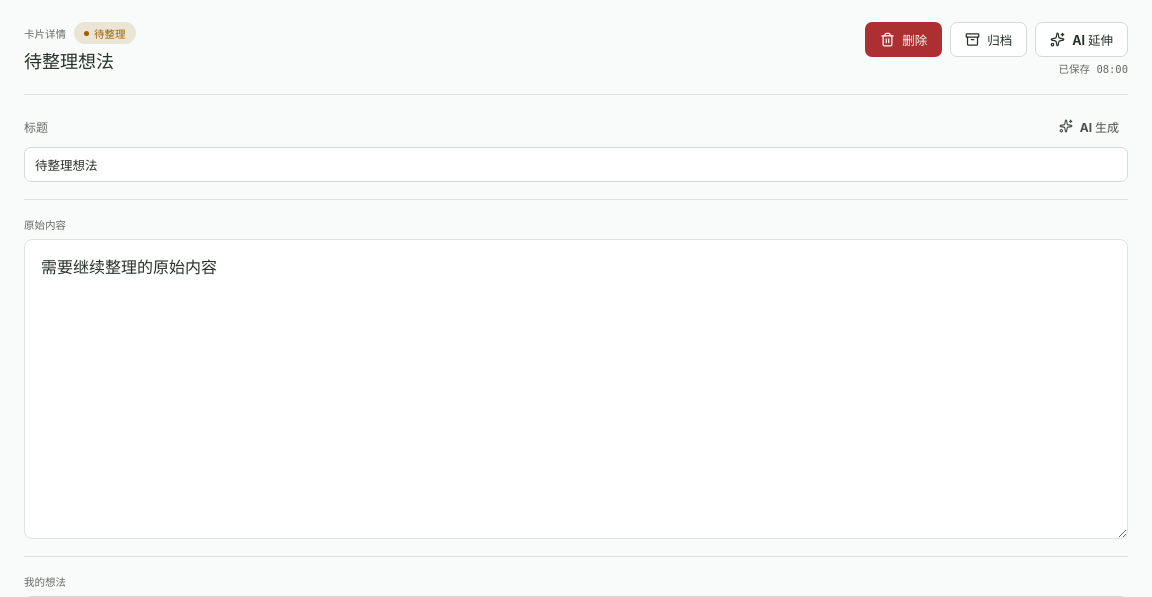
Test: manual AI title generation › can generate repeatedly and uses the current original content
Step 1. Click the button "AI 生成" → [1089, 126], box [1050,112,1128,140]
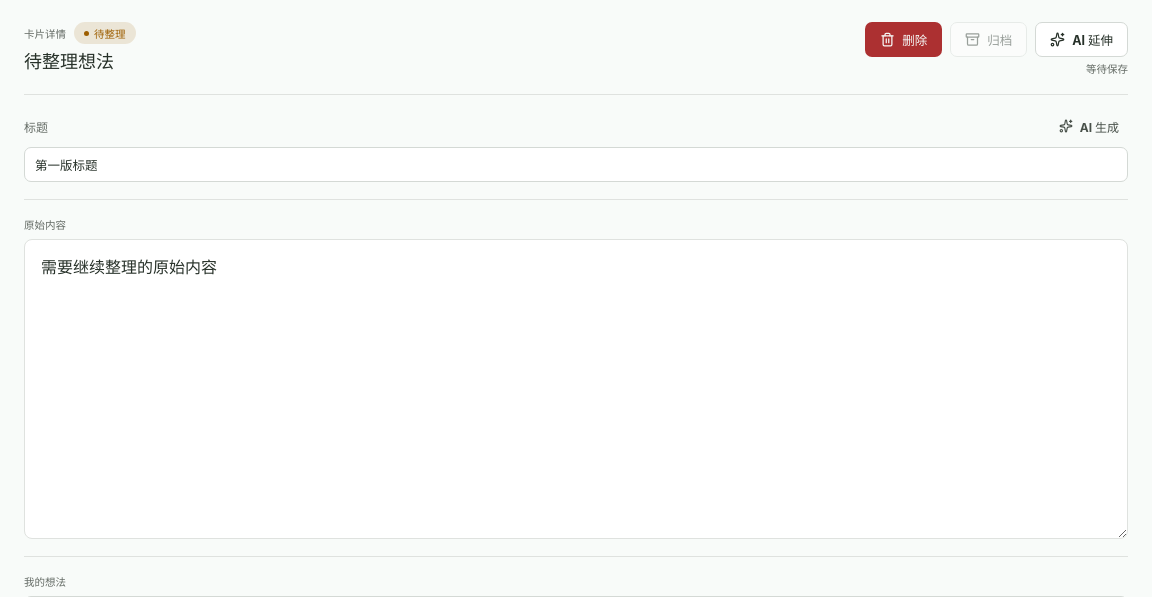
Expected: the field named "标题" holds "第一版标题", [24,147,1128,182]
Step 2. Click the button "AI 生成" → [1089, 126], box [1050,112,1128,140]
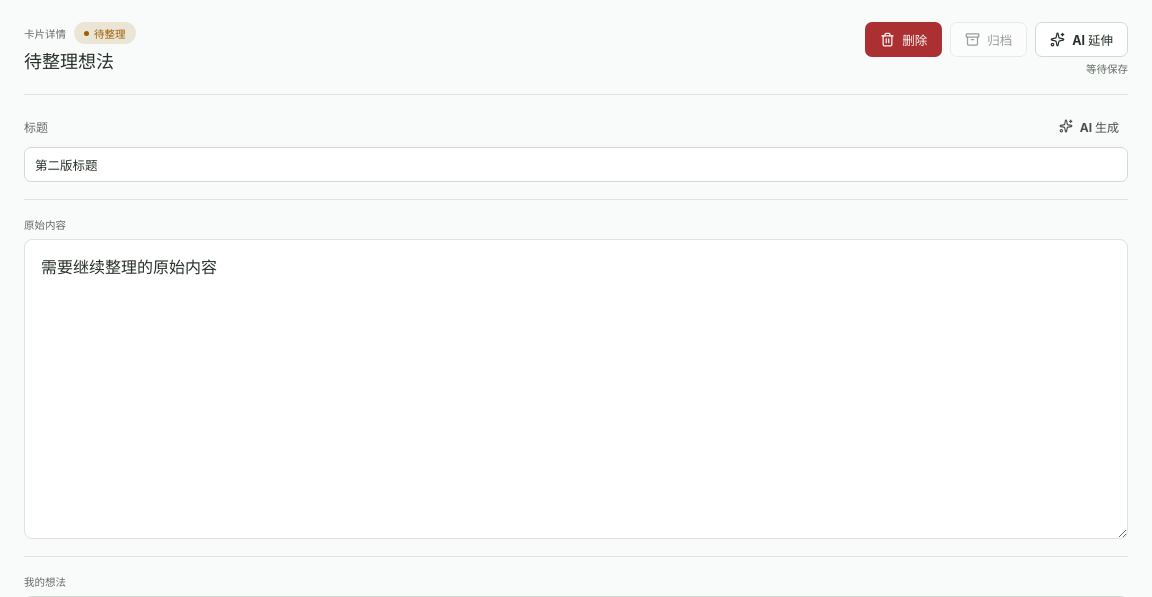
Expected: the field named "标题" holds "第二版标题", [24,147,1128,182]
